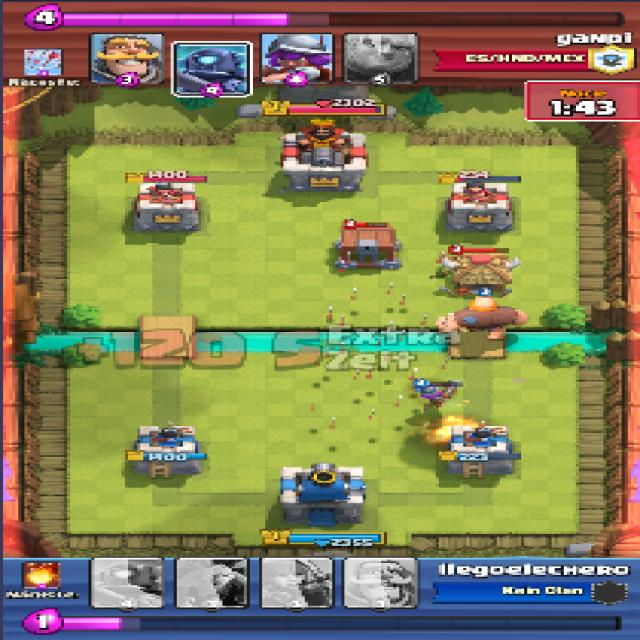Enemy-Fireball: (416, 412, 487, 443)
Enemy-GoblinHut: (437, 254, 522, 298)
Player-Arrow: (323, 283, 454, 427)
Player-Giant: (438, 297, 528, 340)
Player-GoblinCage: (332, 223, 406, 270)
Player-Musketeer: (413, 378, 462, 406)
